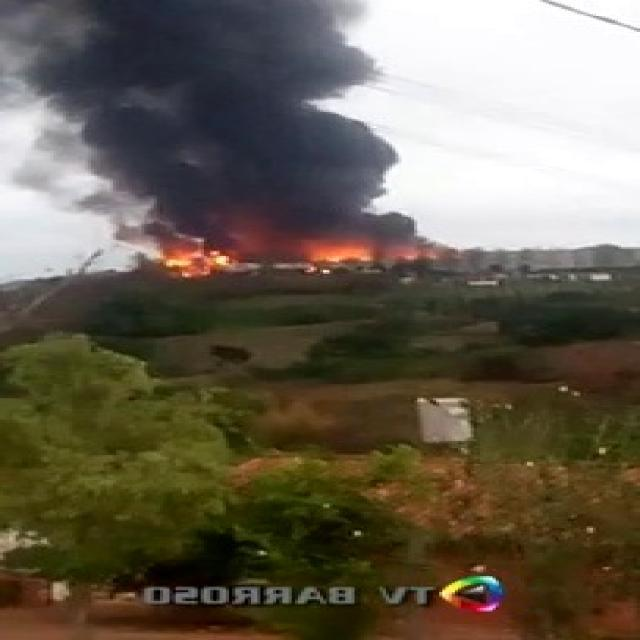Fire: (136, 238, 237, 278), (307, 237, 382, 276)
Smoke: (0, 0, 434, 269)
